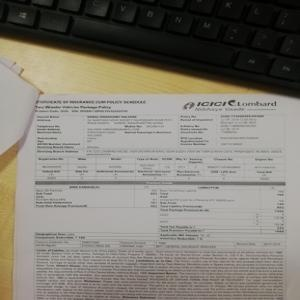image: (183, 100, 283, 116)
table: (34, 179, 289, 248), (36, 155, 288, 183)
text: (35, 248, 282, 300), (33, 114, 265, 151), (34, 98, 149, 107)
